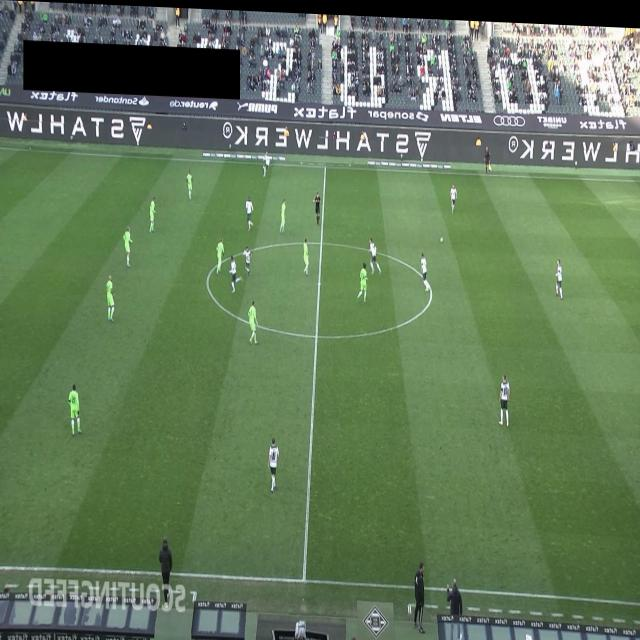player: (68, 382, 82, 435), (268, 434, 280, 490), (498, 368, 510, 423), (368, 233, 382, 273), (248, 297, 259, 344), (356, 258, 368, 299), (106, 273, 116, 321), (123, 224, 133, 267), (420, 248, 430, 287), (242, 242, 252, 275), (555, 253, 563, 294), (229, 252, 237, 292), (216, 235, 224, 273), (149, 194, 157, 232), (246, 193, 254, 229), (450, 178, 458, 209), (303, 235, 309, 273), (262, 147, 270, 175), (186, 167, 193, 198), (280, 195, 286, 231)
referee: (312, 188, 320, 222), (484, 141, 492, 169)
